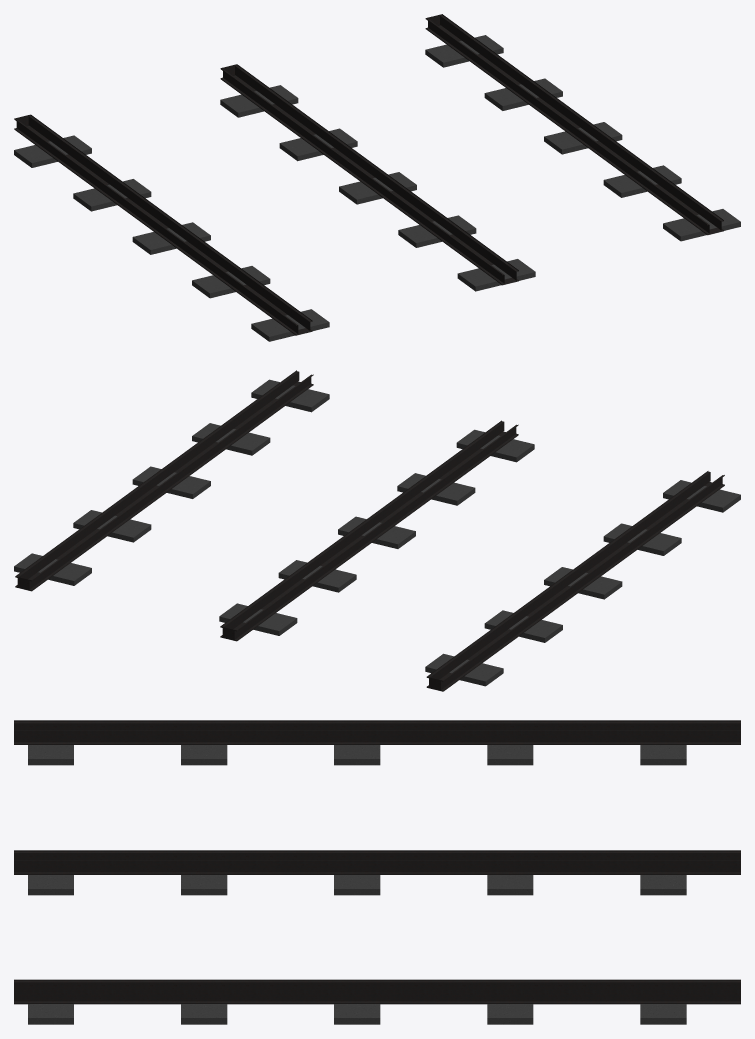
File: Ref_Lamp_Techo.fbx
3 renders of one model, top to bottom at view 1: azimuth 30°, elevation 25°; view 2: azimuth 150°, elevation 25°; view 3: azimuth 270°, elevation 25°, orthographic. The views are drawn at different scales.
Parts seen in each view (by area): view 1: VigasTecho; view 2: VigasTecho; view 3: VigasTecho.
Part boxes in pixels (left/top/right/bottom): VigasTecho: left=14, top=14, right=740, bottom=341; VigasTecho: left=14, top=370, right=740, bottom=691; VigasTecho: left=14, top=720, right=740, bottom=1024.
Bounding box in the file's own units: 1329 × 42.7 × 1375.
